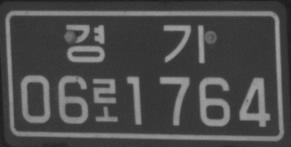0: (19, 73, 52, 125)
1: (122, 74, 149, 126)
4: (238, 75, 272, 128)
6: (197, 75, 232, 128), (56, 73, 90, 126)
7: (158, 75, 191, 126)
경기_D: (64, 22, 206, 65)
로: (91, 76, 119, 123)
